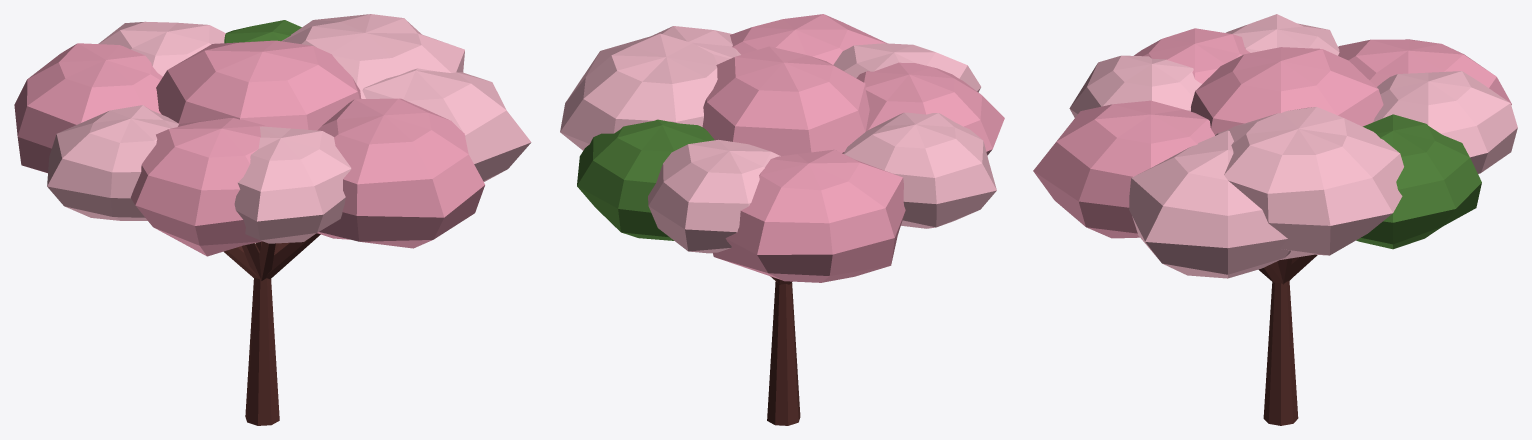
Rendered from tree_cherry_medium.glb.
The picture shows the model from 3 angles, left to right: view 1: azimuth 30°, elevation 25°; view 2: azimuth 150°, elevation 25°; view 3: azimuth 270°, elevation 25°; orthographic projection. The views are drawn at different scales.
Visible parts, largest first — view 1: tree_cherry_medium; view 2: tree_cherry_medium; view 3: tree_cherry_medium.
Boxes of the visible parts, bbox=[...] form: tree_cherry_medium: bbox=[14, 14, 531, 425]; tree_cherry_medium: bbox=[560, 14, 1004, 425]; tree_cherry_medium: bbox=[1033, 14, 1517, 425].
Bounding box in the file's own units: 11.26 × 9.18 × 11.28.
